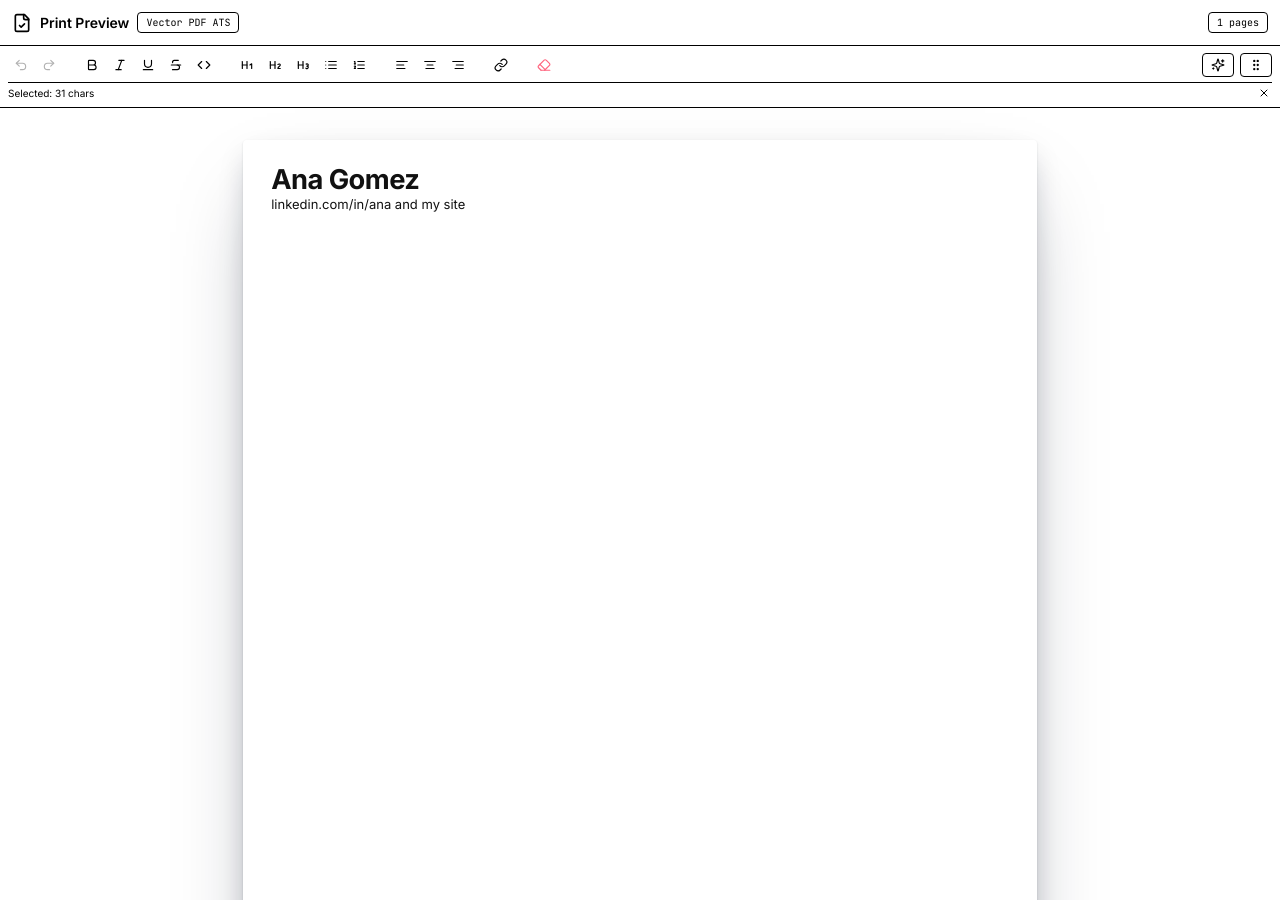
Test: CVPreview AI rewrite › replaces the selection with the picked wording
This screenshot has width=1280, height=900.
Click the button named "improve with ai": (1218, 65) [1202,53,1234,77]
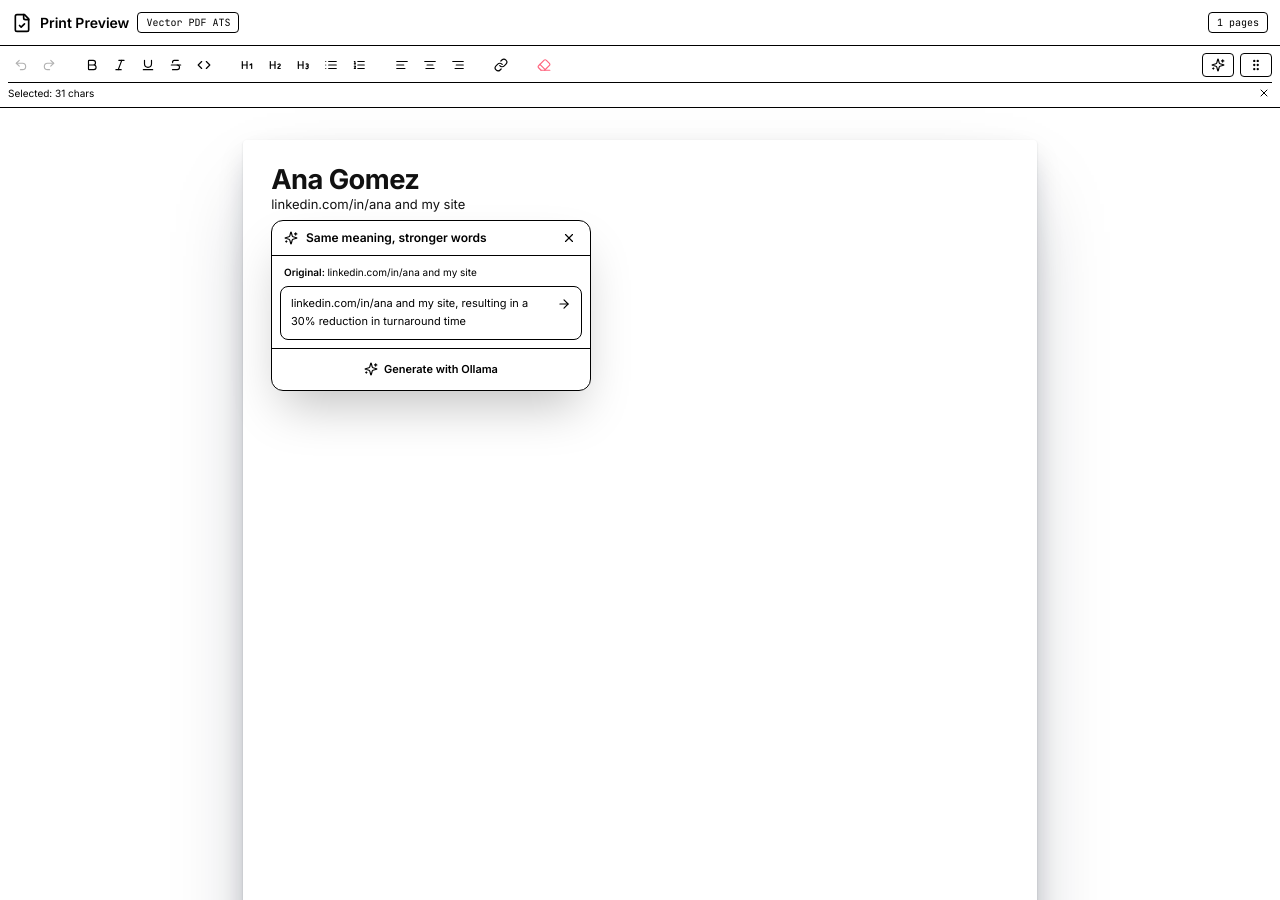
Click the button "resulting in a 30% reduction": (431, 313) [280,286,582,340]
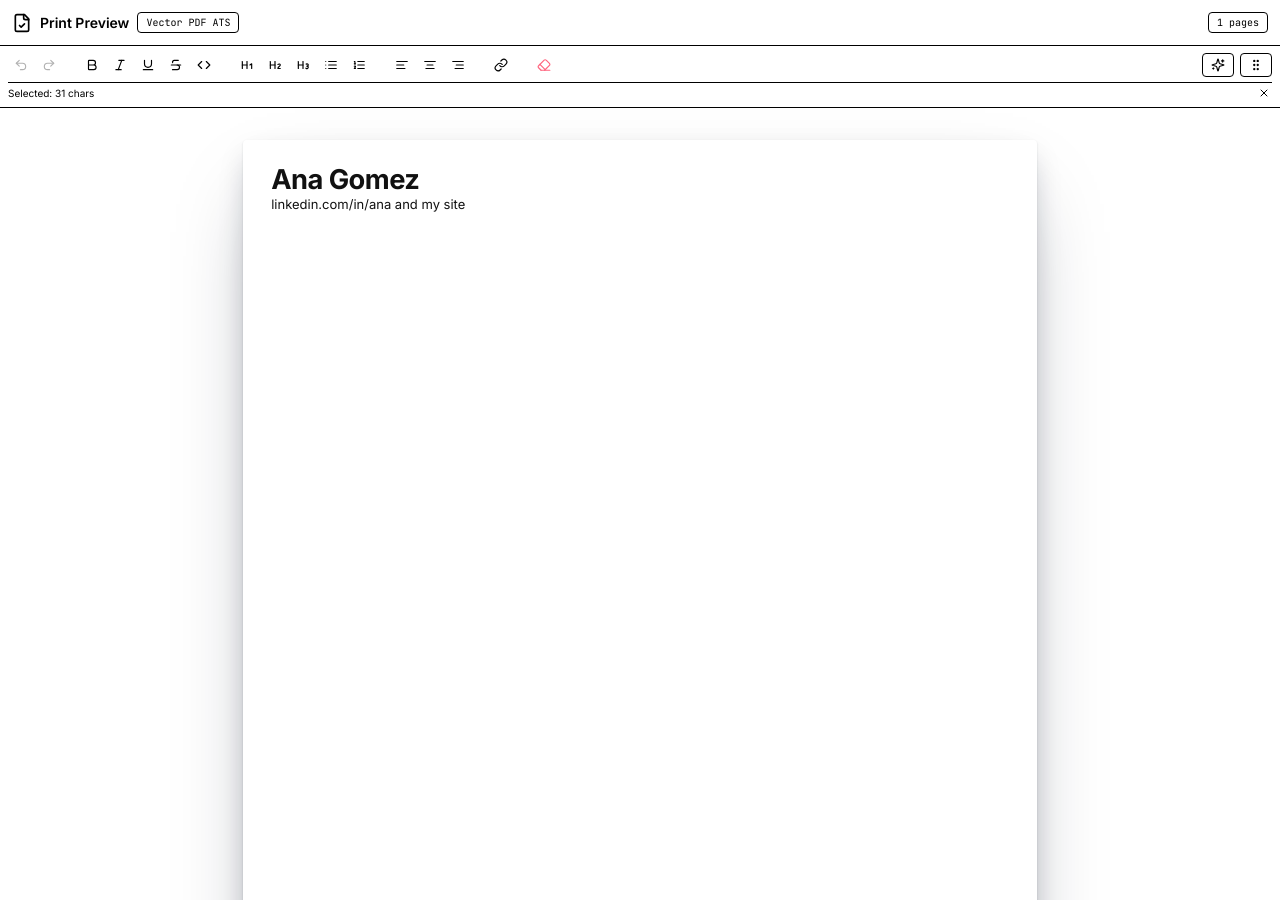
Expected: the heading "Same meaning" is gone
